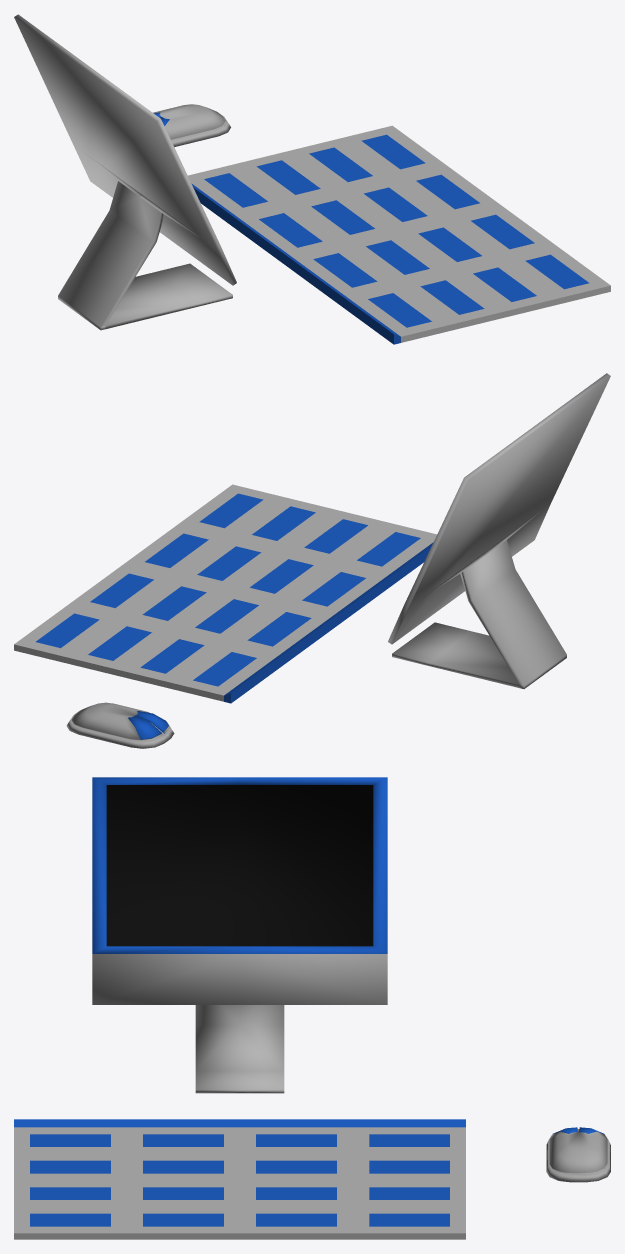
Rendered from computer.fbx.
The picture shows the model from 3 angles, top to bottom: view 1: azimuth 30°, elevation 25°; view 2: azimuth 150°, elevation 25°; view 3: azimuth 270°, elevation 25°; orthographic projection. The views are drawn at different scales.
Parts seen in each view (by area): view 1: Plane.002; view 2: Plane.002; view 3: Plane.002.
Part boxes in pixels (x1,y1,x2,y2): Plane.002: (14,14,610,344); Plane.002: (14,373,610,748); Plane.002: (14,777,610,1239).
Size of the model in its own units: 402 by 224 by 476.
